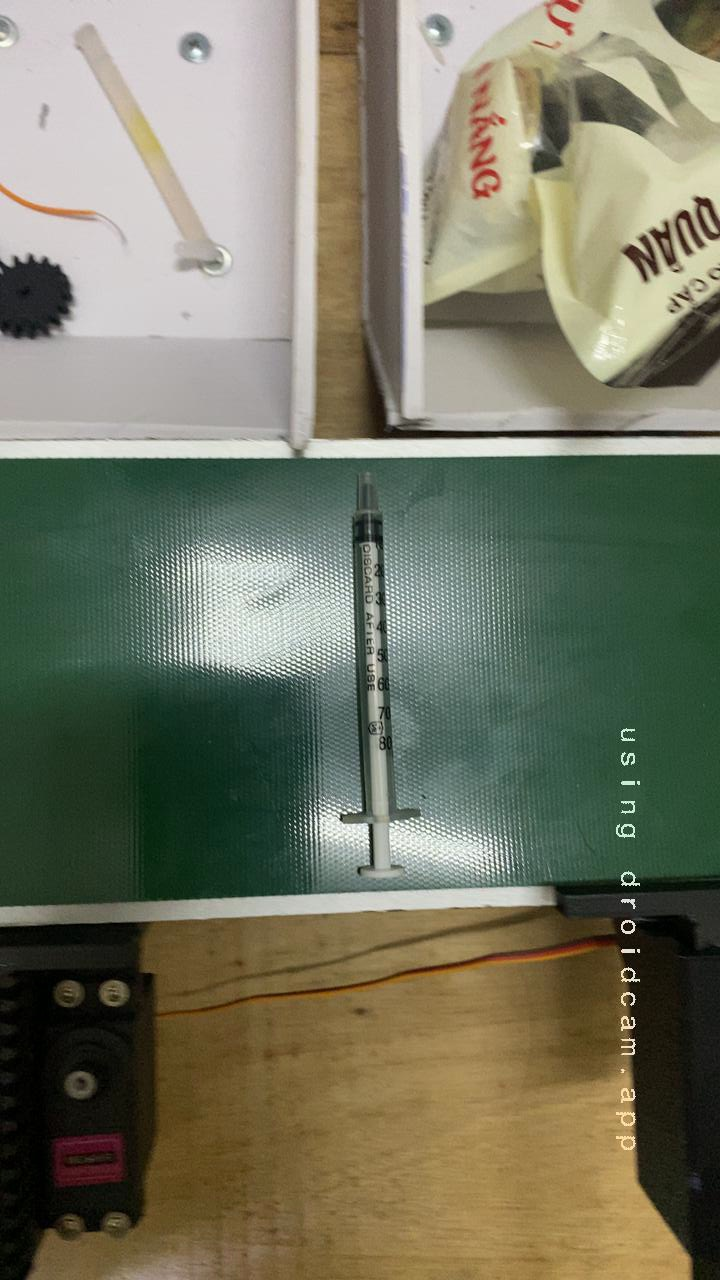syringe: (317, 488, 430, 834)
